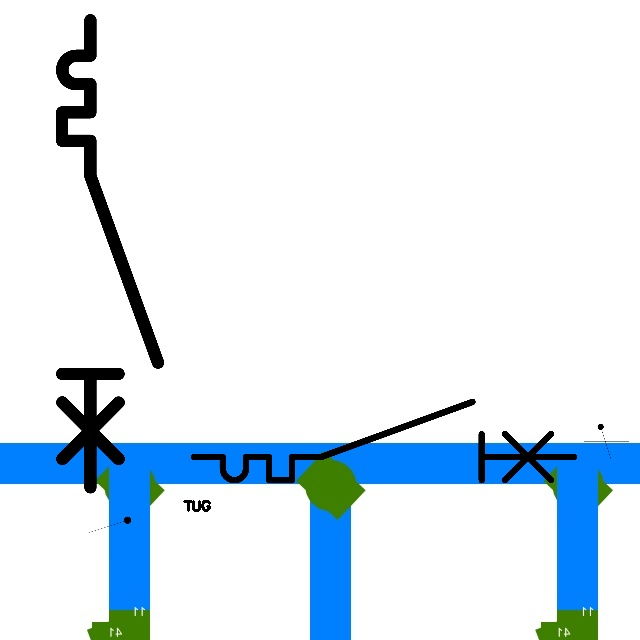interruptor_termomagnetico: (50, 8, 170, 499), (184, 392, 584, 490)
